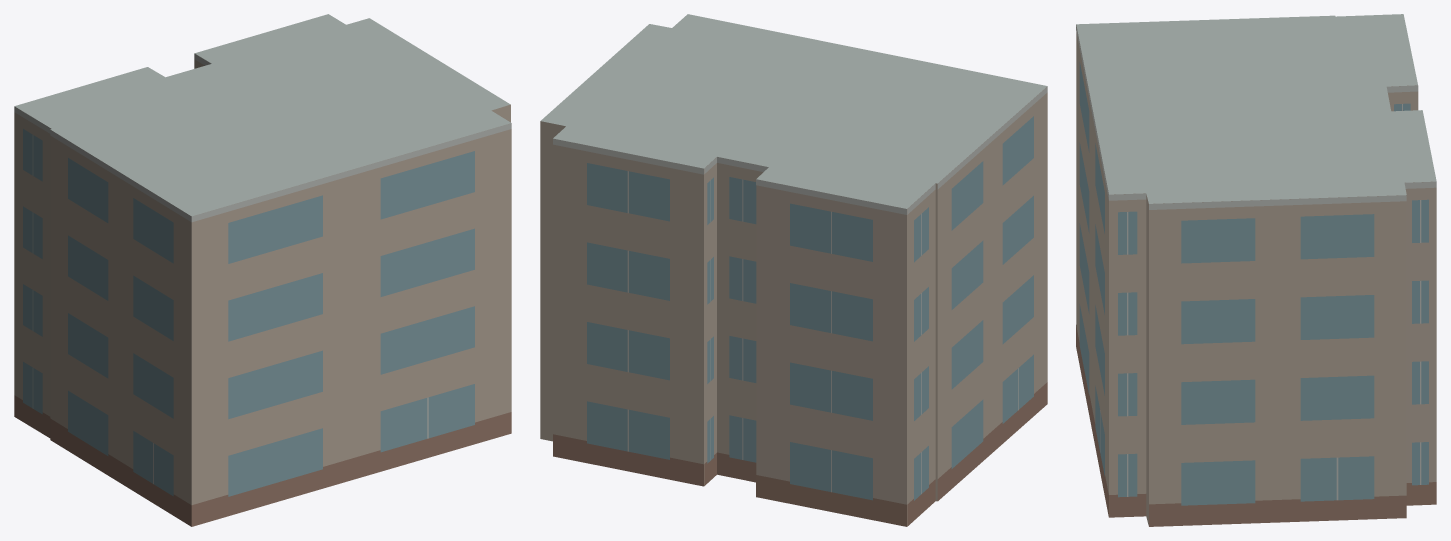
File: survey-upis-32930697.glb
3 renders of one model, left to right at view 1: azimuth 30°, elevation 25°; view 2: azimuth 150°, elevation 25°; view 3: azimuth 270°, elevation 25°, orthographic. The views are drawn at different scales.
Visible parts, largest first — view 1: survey-upis-32930697.tmp; view 2: survey-upis-32930697.tmp; view 3: survey-upis-32930697.tmp.
Boxes of the visible parts, x1,y1,x2,y2 form: survey-upis-32930697.tmp: [14, 14, 511, 526]; survey-upis-32930697.tmp: [540, 14, 1047, 526]; survey-upis-32930697.tmp: [1076, 14, 1436, 526].
Size of the model in its own units: 16.15 by 12.8 by 12.96.
